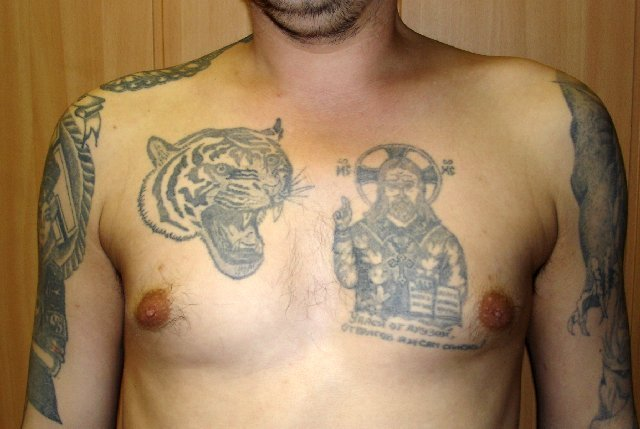tatu5_tigr: (125, 111, 314, 284)
